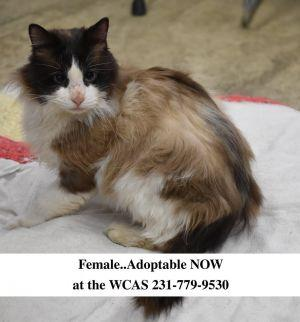ragdoll: (21, 12, 127, 130)
